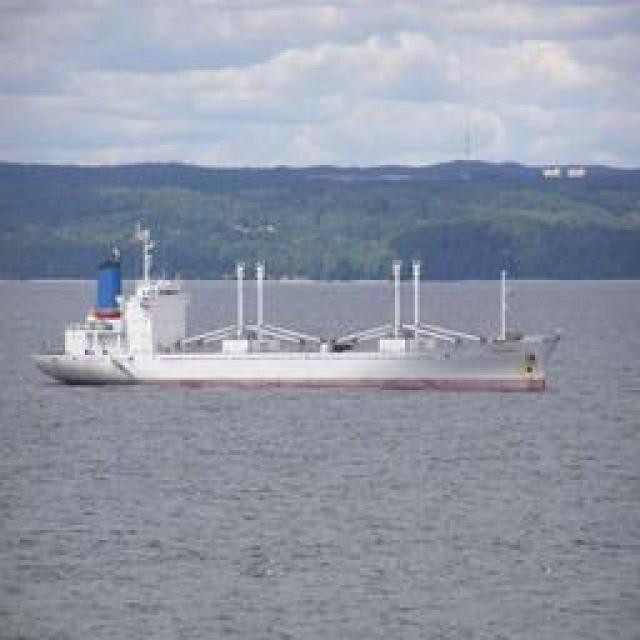CIV_Ship: (36, 268, 566, 392)
